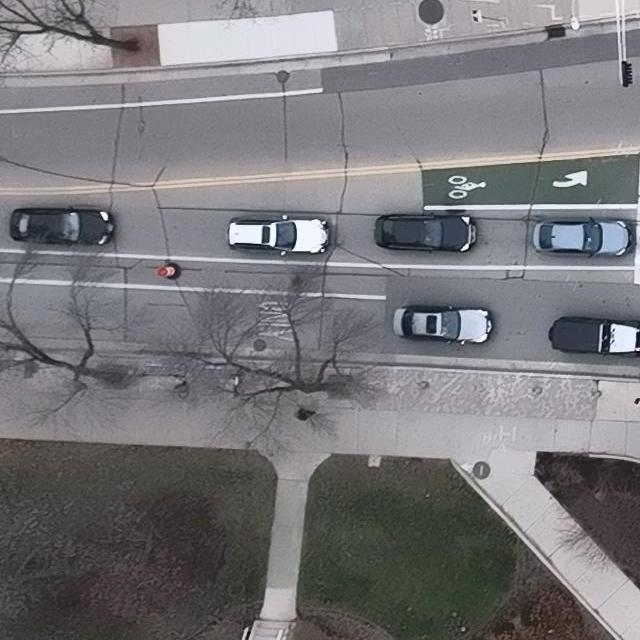car: (8, 205, 117, 246), (394, 303, 495, 346), (228, 214, 331, 256), (532, 217, 634, 259), (374, 213, 476, 254), (548, 315, 640, 358)
